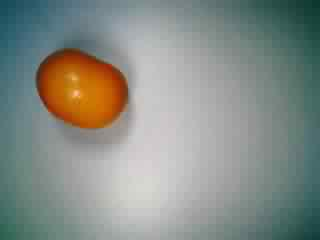orange: (33, 41, 130, 138)
